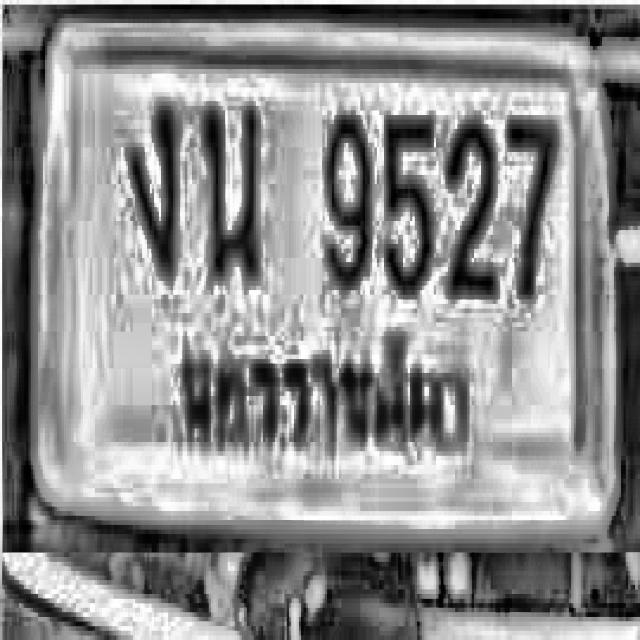license-plate: (45, 10, 625, 556)
